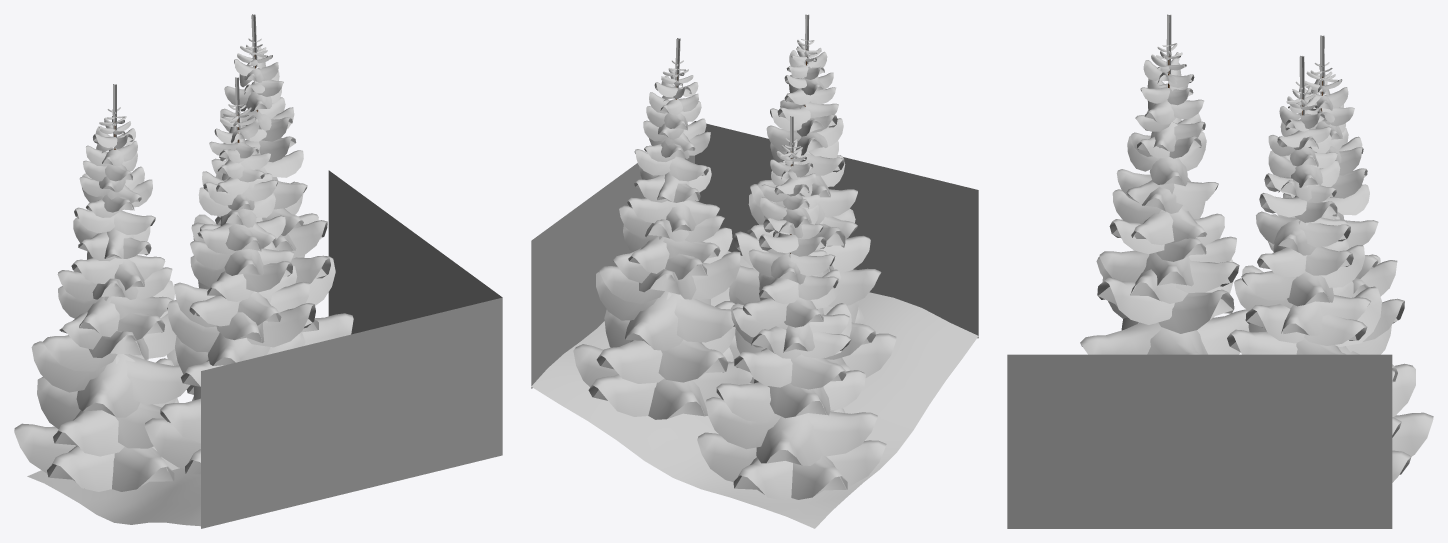
The model's file is foliageprefab_perimcorner001.fbx.
The picture shows the model from 3 angles, left to right: view 1: azimuth 30°, elevation 25°; view 2: azimuth 150°, elevation 25°; view 3: azimuth 270°, elevation 25°; orthographic projection. The views are drawn at different scales.
Parts seen in each view (by area): view 1: pPlane53; view 2: pPlane53; view 3: pPlane53.
Boxes of the visible parts, x1,y1,x2,y2 form: pPlane53: (14, 14, 502, 528); pPlane53: (531, 14, 978, 528); pPlane53: (1007, 14, 1433, 528).
Bounding box in the file's own units: 865 × 1131 × 886.
